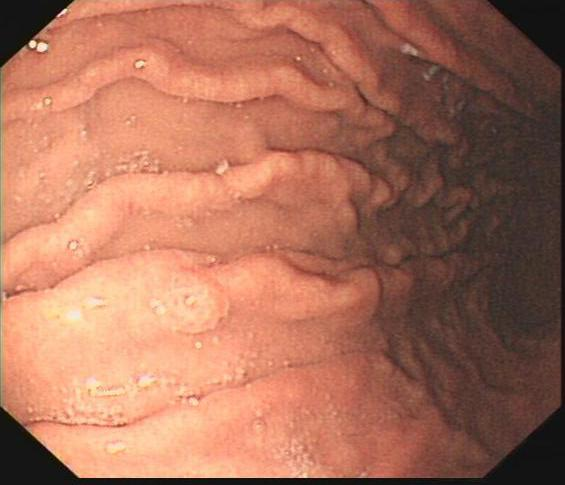Polyp: (142, 267, 244, 345)
